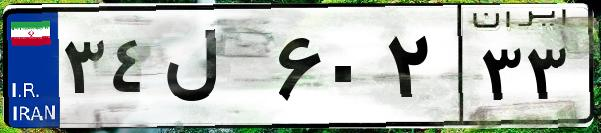0: (330, 28, 385, 110)
2: (385, 28, 445, 110)
3: (57, 26, 110, 100), (475, 38, 525, 113), (525, 38, 570, 115)
4: (110, 28, 158, 98)
6: (270, 28, 330, 110)
ل: (158, 20, 270, 120)
